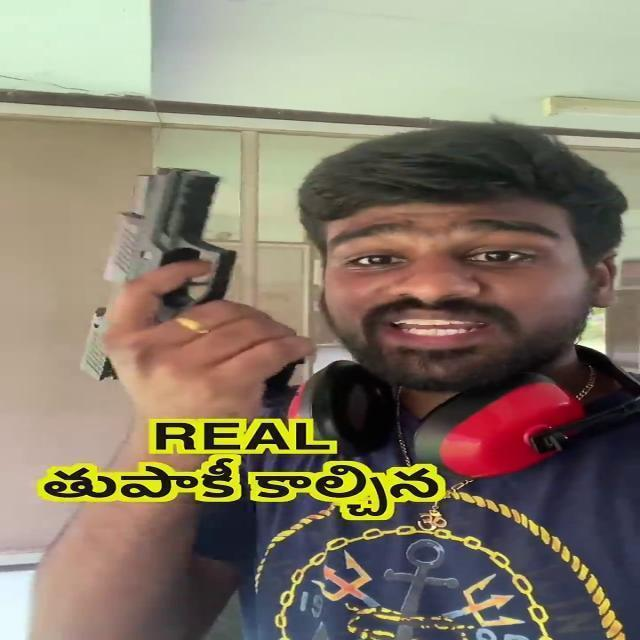Handgun: (78, 160, 312, 412)
